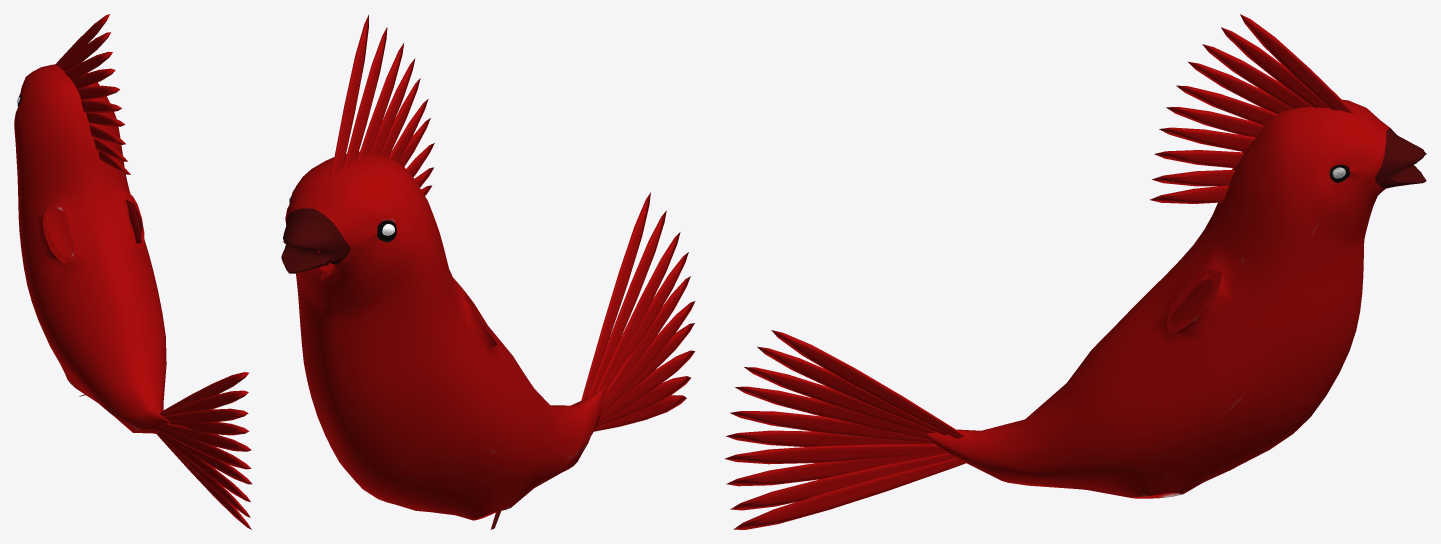
Rendered from CuerpoPajaroProyectorPicapiedras.obj.
3 renders of one model, left to right at view 1: azimuth 30°, elevation 25°; view 2: azimuth 150°, elevation 25°; view 3: azimuth 270°, elevation 25°, orthographic. The views are drawn at different scales.
Parts seen in each view (by area): view 1: polySurface47; view 2: polySurface47; view 3: polySurface47.
Part boxes in pixels (x1,y1,x2,y2): polySurface47: (14, 14, 252, 529); polySurface47: (281, 14, 695, 529); polySurface47: (724, 14, 1426, 529).
Bounding box in the file's own units: 4.67 × 15.11 × 17.77.
Materials: 1 (1 with a texture image).
